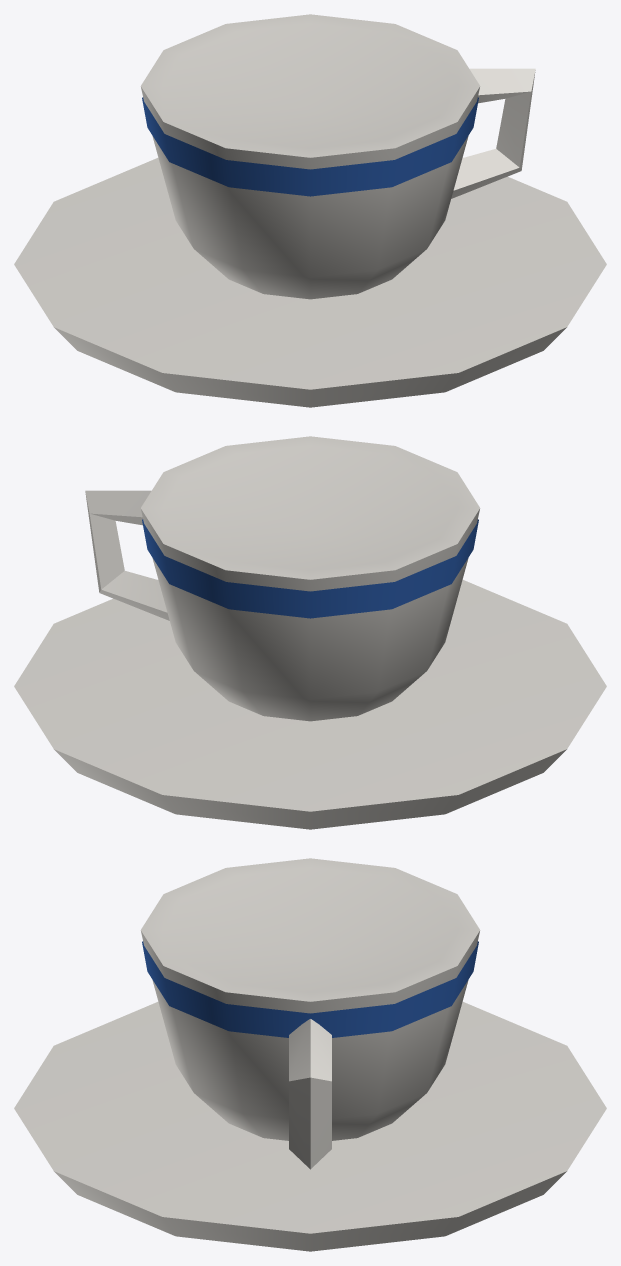
The model's file is Junk_Teacup.fbx.
The picture shows the model from 3 angles, top to bottom: view 1: azimuth 30°, elevation 25°; view 2: azimuth 150°, elevation 25°; view 3: azimuth 270°, elevation 25°; orthographic projection.
Parts seen in each view (by area): view 1: Item; view 2: Item; view 3: Item.
Boxes of the visible parts, x1=… form: Item: x1=14, y1=14, x2=606, y2=407; Item: x1=14, y1=436, x2=606, y2=829; Item: x1=14, y1=858, x2=606, y2=1251.
Size of the model in its own units: 0.22 by 0.085 by 0.22.
